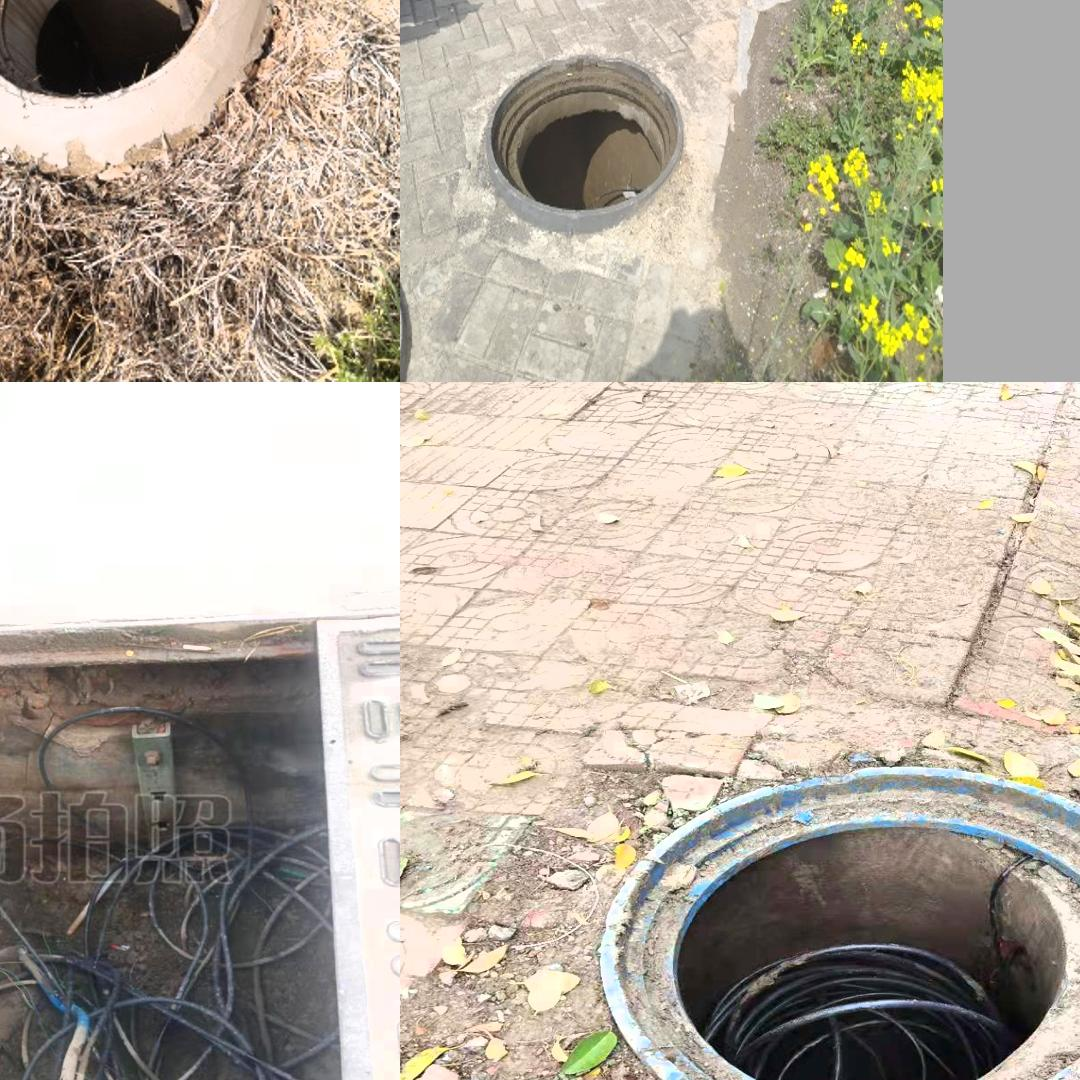lose: (0, 613, 400, 1080), (611, 761, 1080, 1080), (484, 54, 682, 235), (0, 0, 255, 106)
